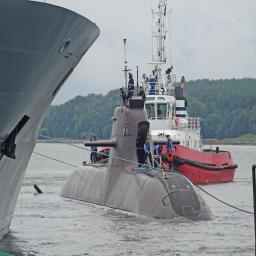submarine: (62, 106, 216, 219)
